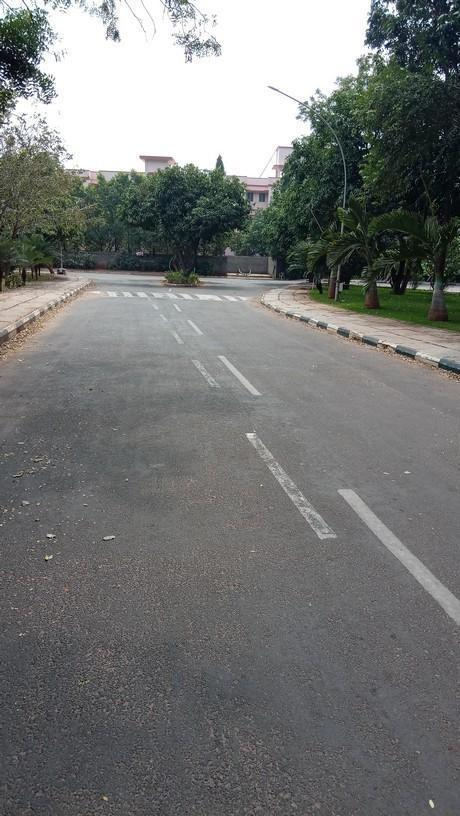speedbreaker: (89, 285, 255, 306)
